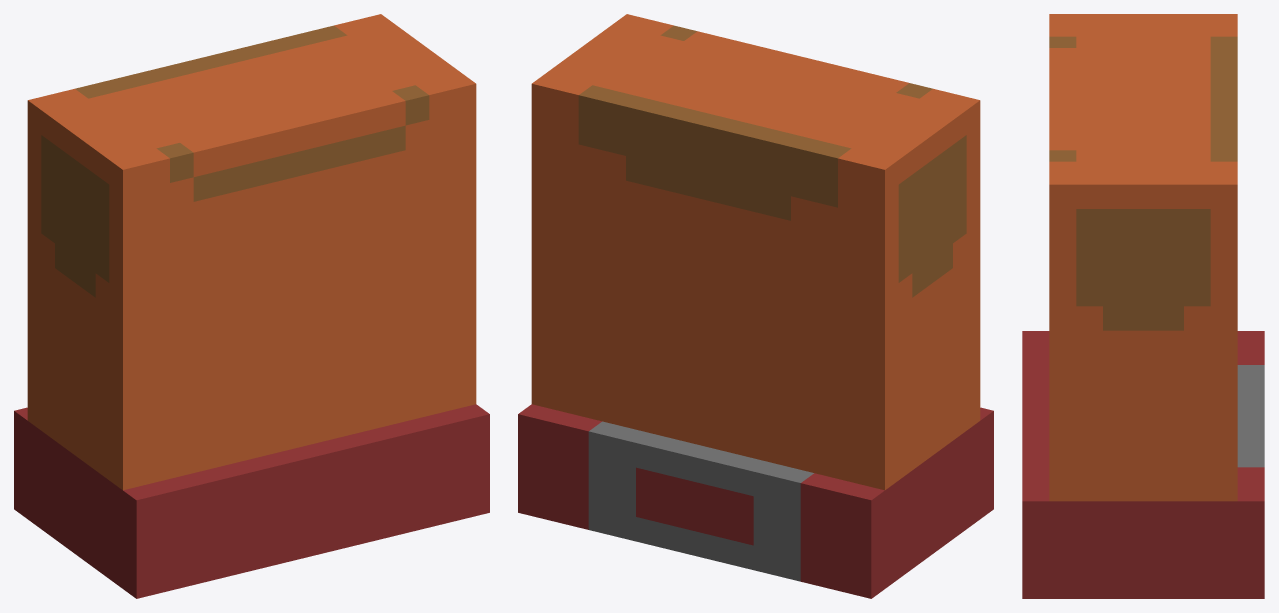
File: Body.fbx
The picture shows the model from 3 angles, left to right: view 1: azimuth 30°, elevation 25°; view 2: azimuth 150°, elevation 25°; view 3: azimuth 270°, elevation 25°; orthographic projection.
Visible parts, largest first — view 1: Куб.761; view 2: Куб.761; view 3: Куб.761.
Boxes of the visible parts, x1,y1,x2,y2 form: Куб.761: (14, 14, 489, 598); Куб.761: (518, 14, 993, 598); Куб.761: (1022, 14, 1264, 598).
Size of the model in its own units: 1500 by 1700 by 900.
